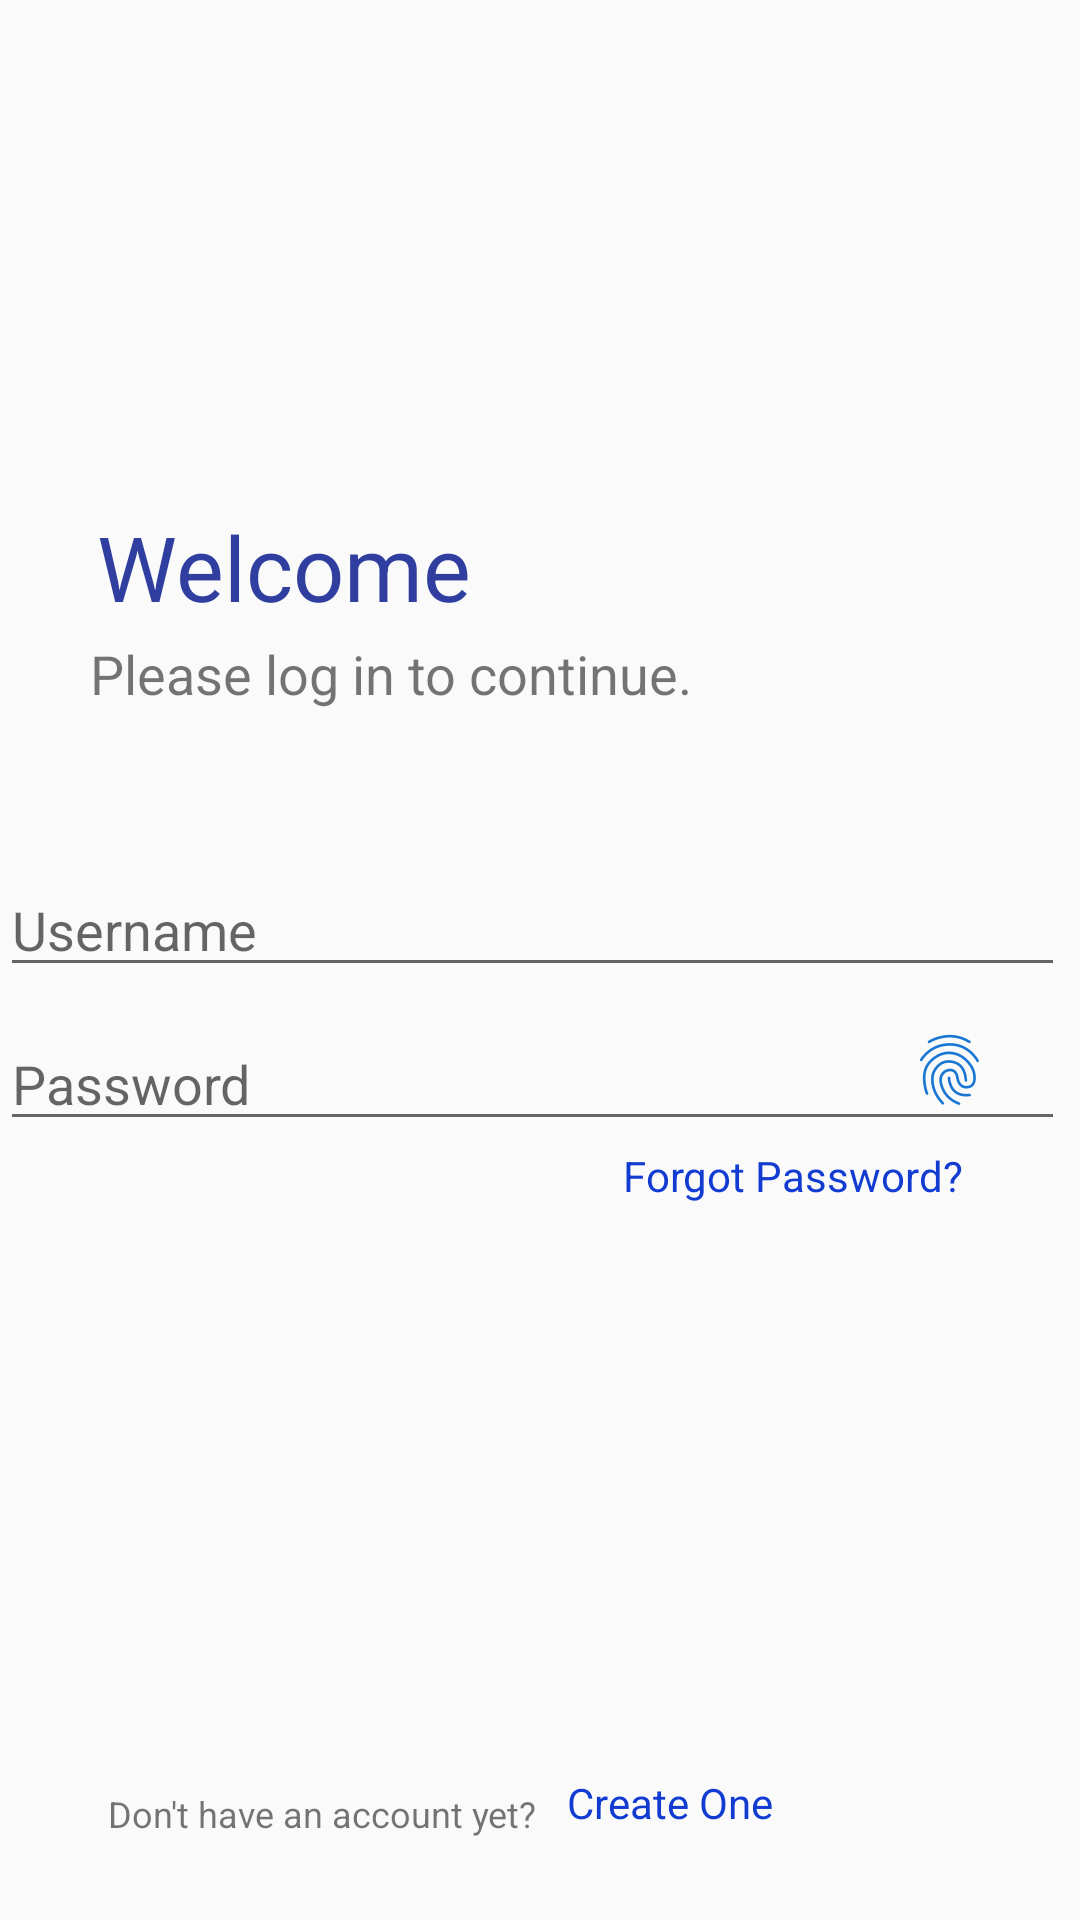

Icon click points for this 1080 × 1920 phone screenshot, format [x,y]:
finger print: [949,1069]
